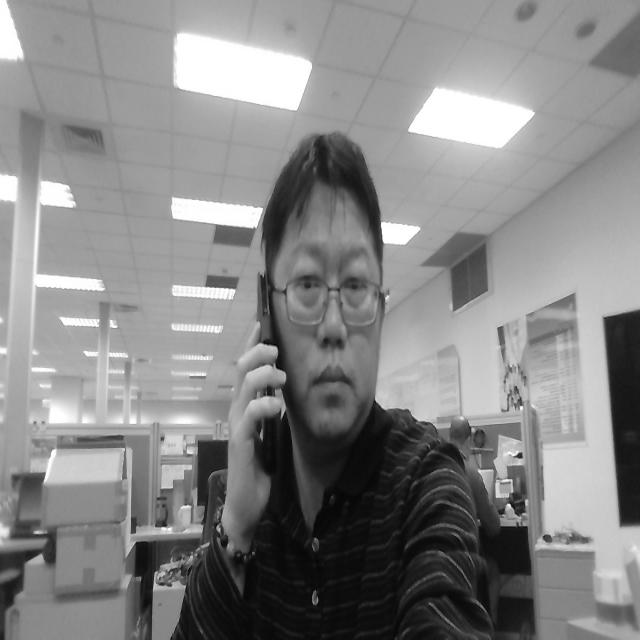phone: (216, 260, 296, 534)
